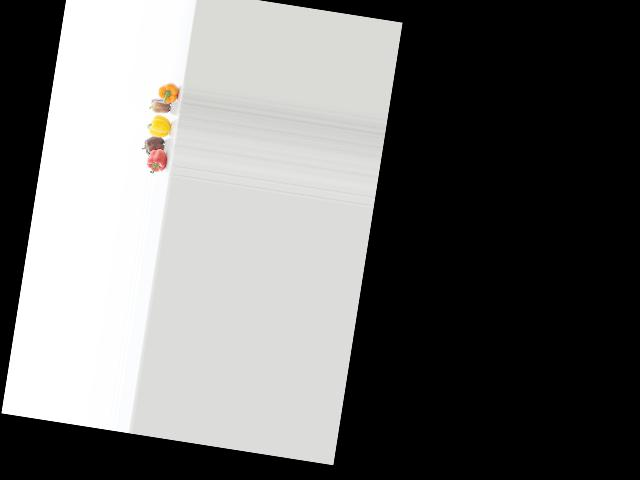bell_pepper: (149, 79, 182, 106)
